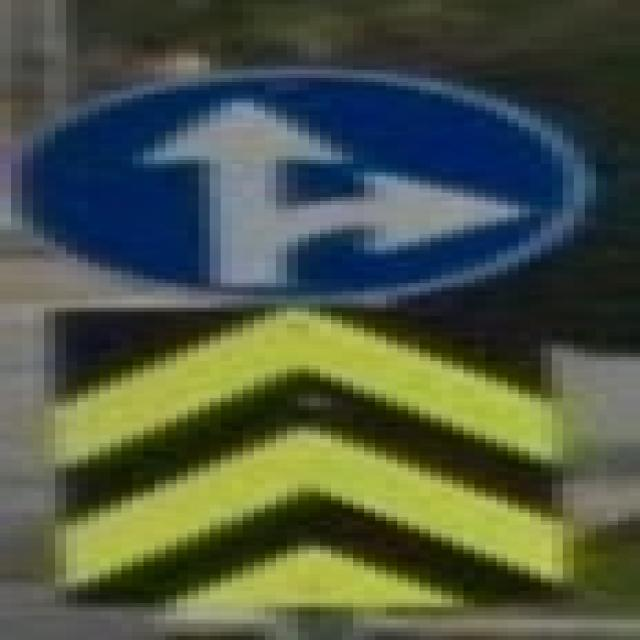Straight or Right: (23, 75, 586, 296)
